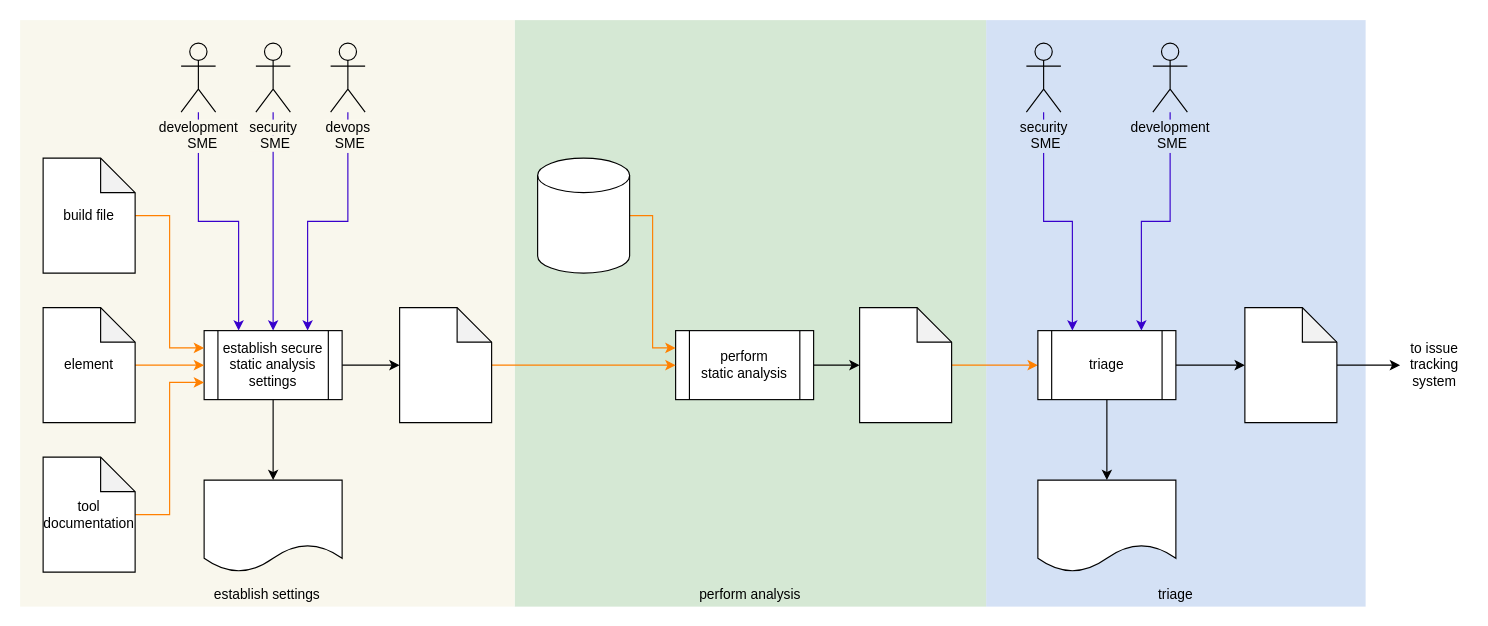
This 1488x626 diagram has some shape labels left out. Here are the shapes that lost their labels. From the top down, the centre of each, then its label:
At point 583,215: "source code repository".
At point 445,364: "updated build file".
At point 905,364: "static analysis output".
At point 1290,364: "identified issues".
At point 272,525: "security options qualification report".
At point 1106,525: "static analysis report".
